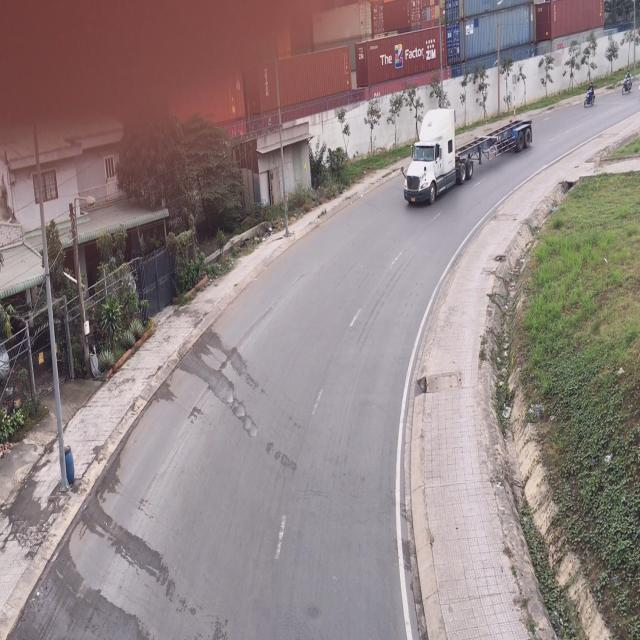motorbike: (586, 74, 597, 110), (624, 63, 634, 98)
truck: (400, 115, 536, 209)
